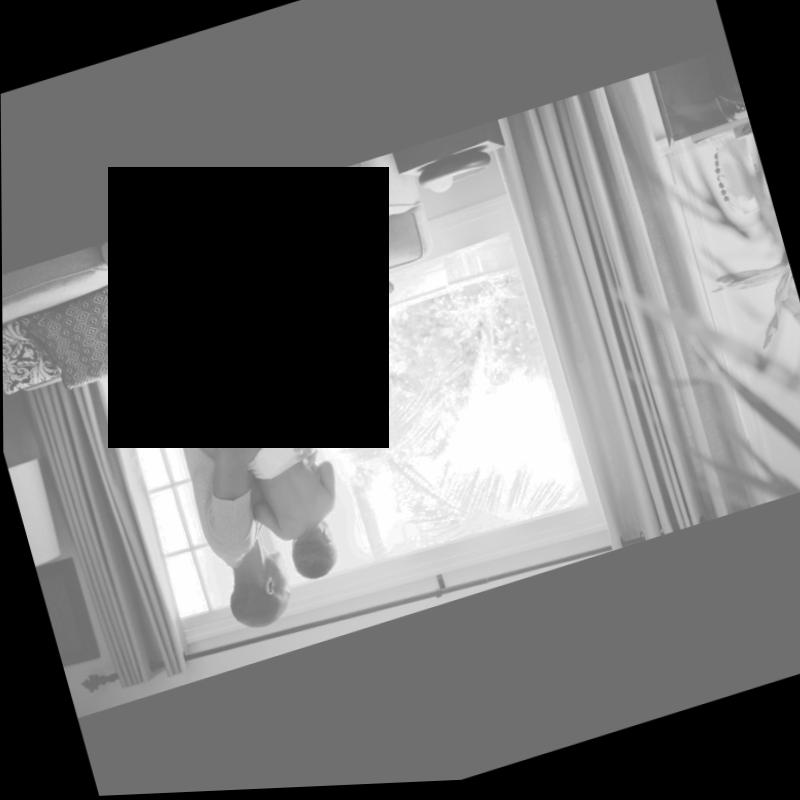pillow: (18, 276, 163, 401), (260, 200, 395, 327), (205, 214, 314, 311), (2, 312, 65, 395)
